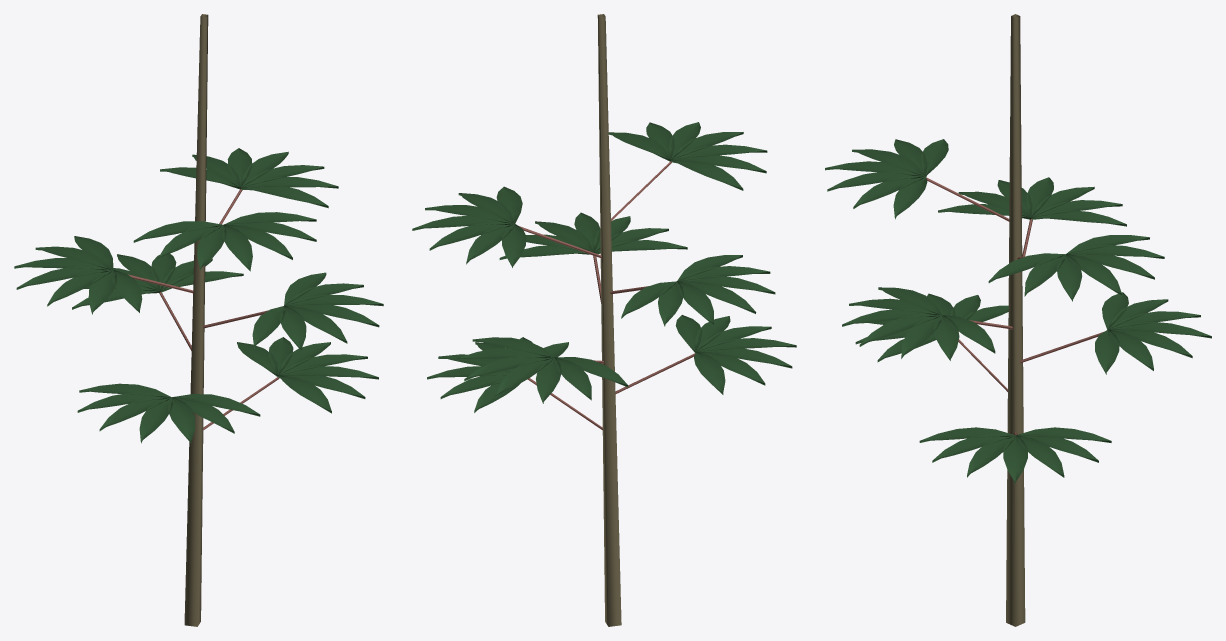
The model's file is yuca.glb.
3 views of the same model, side by side, from view 1: azimuth 30°, elevation 25°; view 2: azimuth 150°, elevation 25°; view 3: azimuth 270°, elevation 25° (orthographic).
Parts seen in each view (by area): view 1: yuca; view 2: yuca; view 3: yuca.
Boxes of the visible parts, x1,y1,x2,y2 form: yuca: (14, 14, 383, 626); yuca: (412, 14, 796, 626); yuca: (825, 14, 1211, 626).
Size of the model in its own units: 1.01 by 1.75 by 1.
